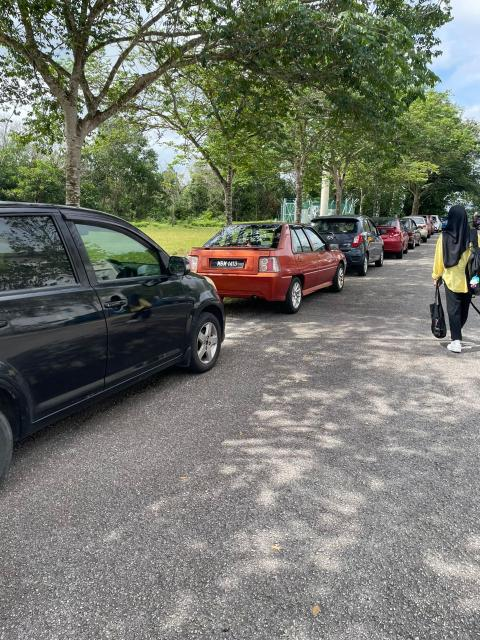License_Plate: (207, 258, 248, 273)
car: (2, 188, 225, 456), (184, 220, 346, 314), (309, 216, 385, 277)
